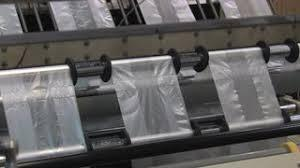Plastic bag: (2, 66, 86, 162), (111, 54, 191, 148), (206, 48, 282, 134)
